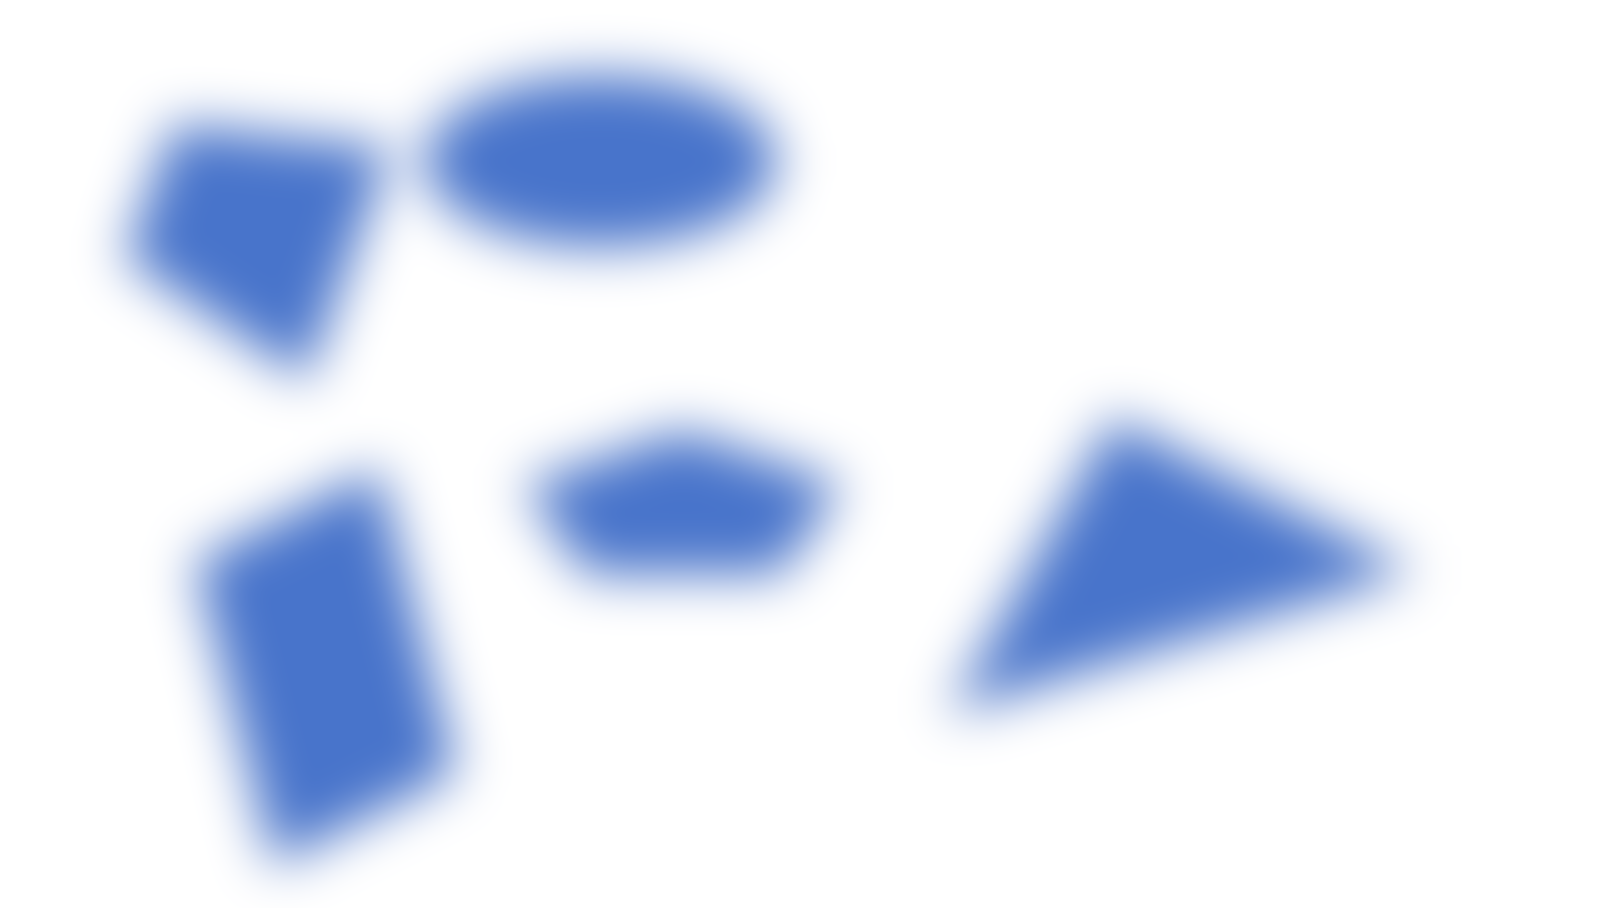circle: (423, 59, 777, 260)
parallelogram: (186, 471, 471, 869)
pentagon: (538, 403, 833, 599)
trapezium: (117, 100, 393, 372)
triangle: (948, 400, 1417, 744)
